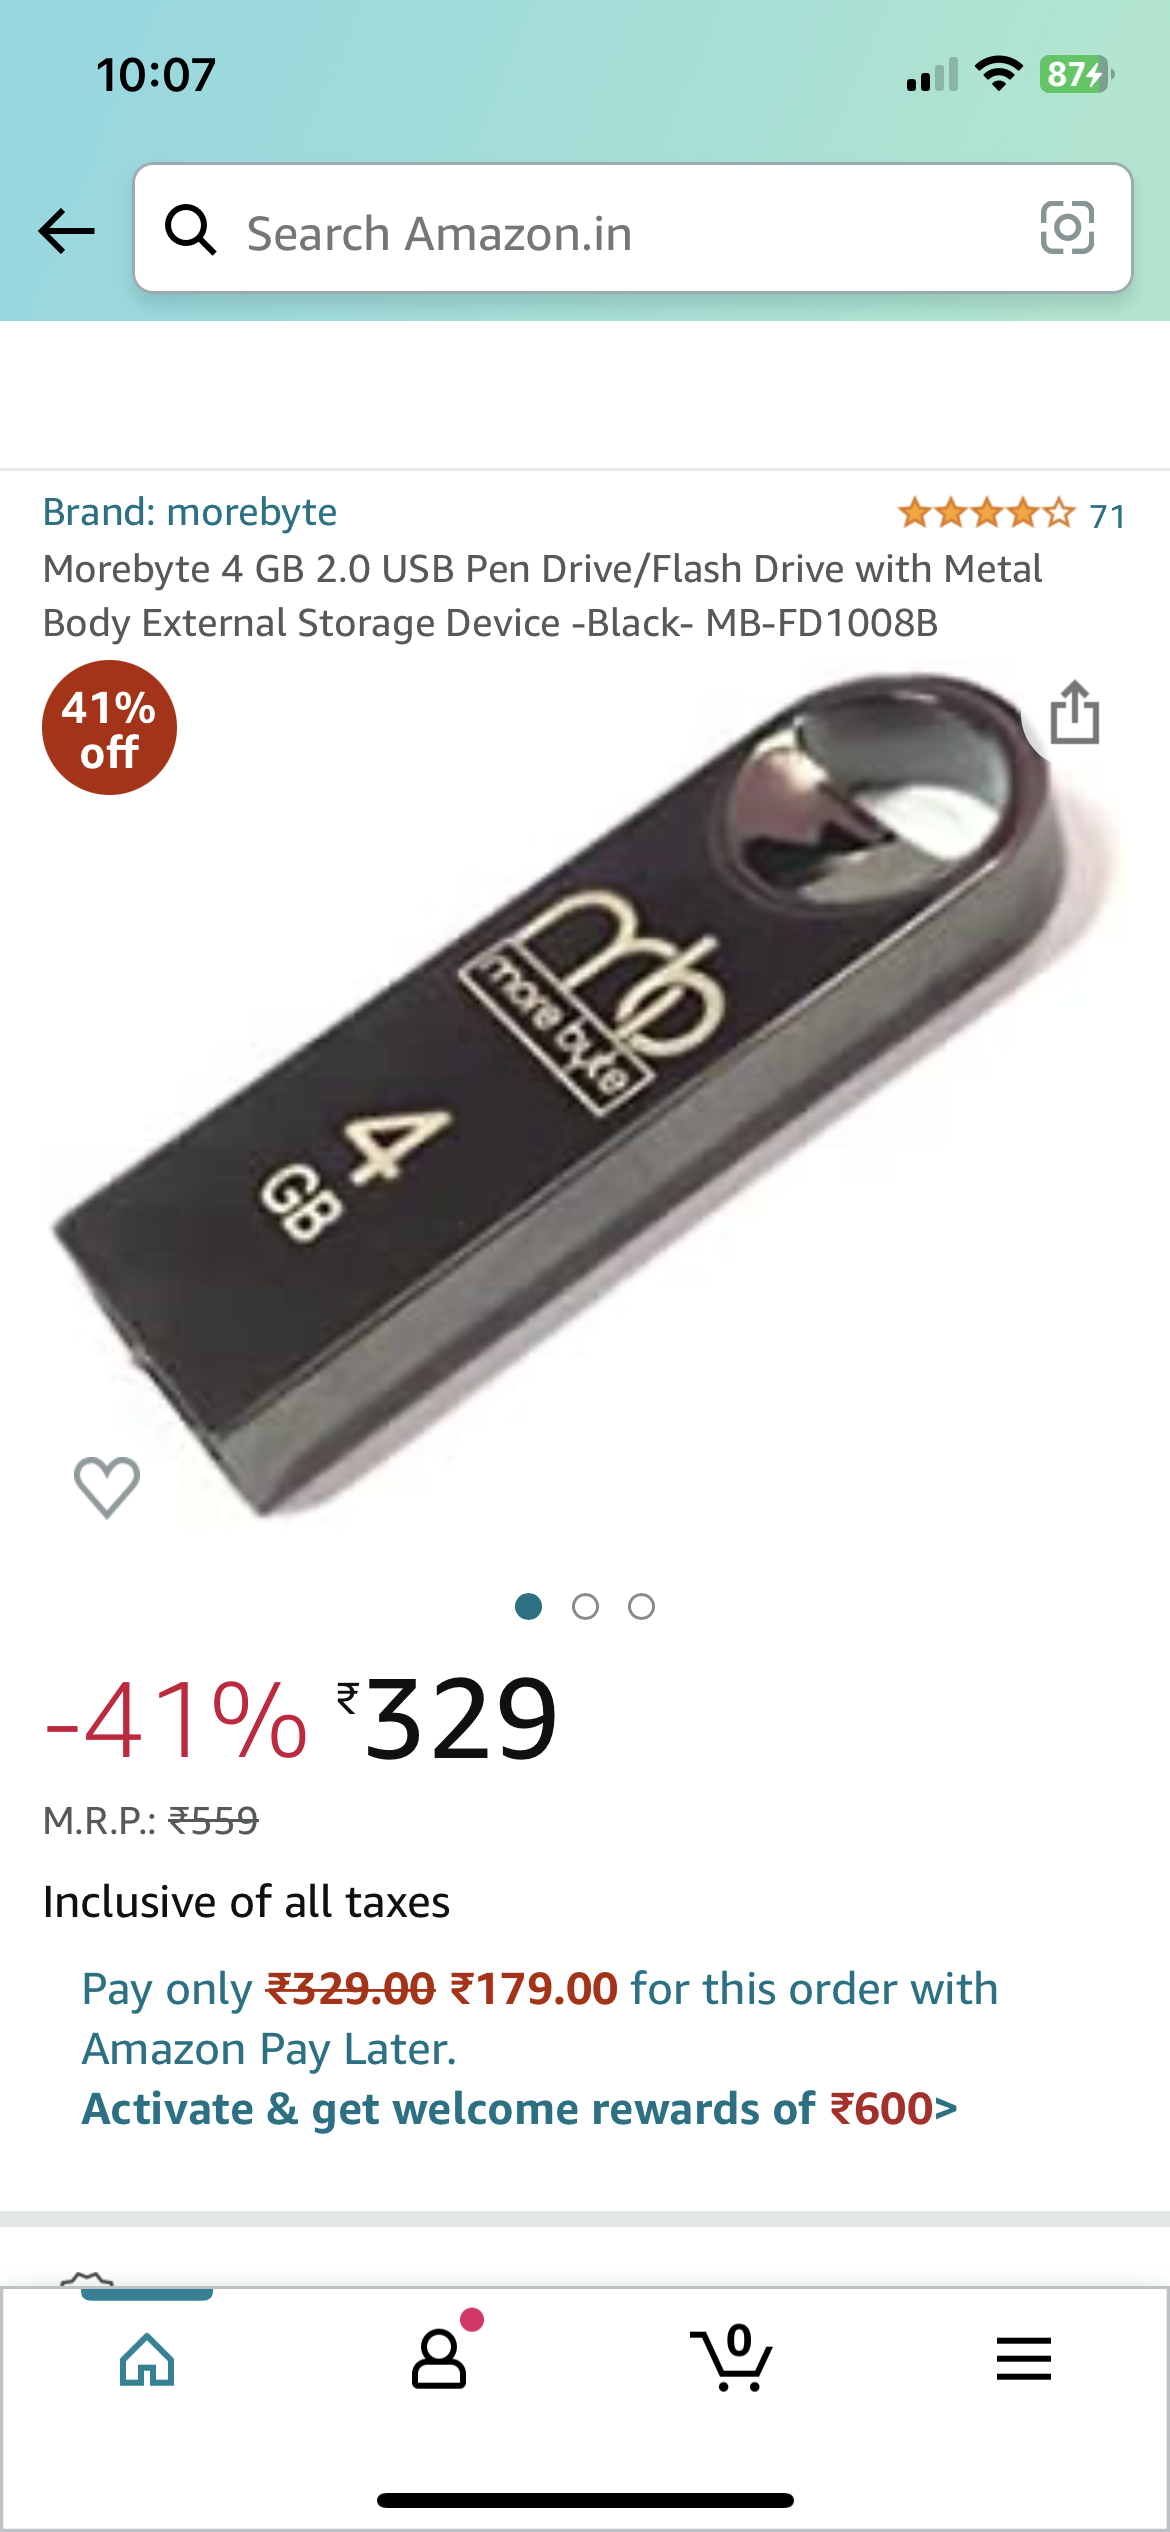PenDrive: (52, 665, 1073, 1521)
